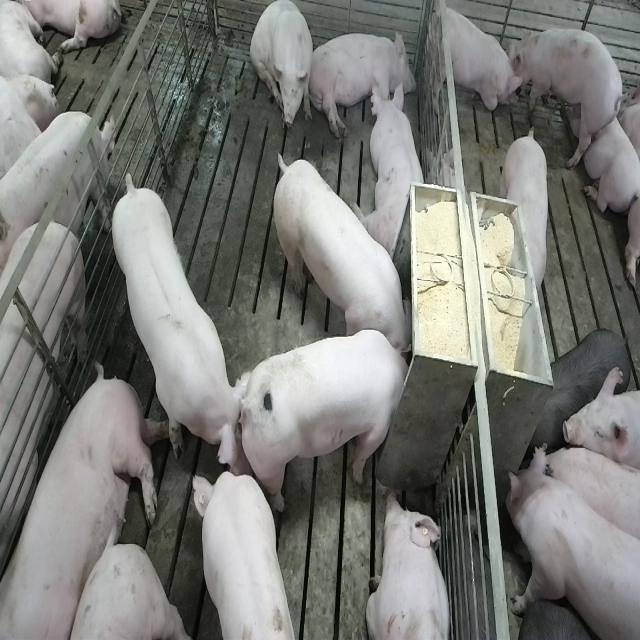Feeding: (247, 328, 419, 514), (268, 144, 411, 358)
Lateral_lying: (307, 28, 417, 140)
Sitting: (424, 0, 518, 125), (251, 2, 315, 136)
Standing: (110, 164, 252, 472), (0, 215, 89, 626), (503, 447, 638, 640), (0, 105, 112, 267), (194, 470, 300, 640), (510, 24, 622, 164), (528, 324, 634, 454), (503, 125, 553, 298), (566, 367, 640, 472)
Sternal_lying: (365, 490, 453, 640), (364, 79, 430, 259), (562, 84, 638, 212)
